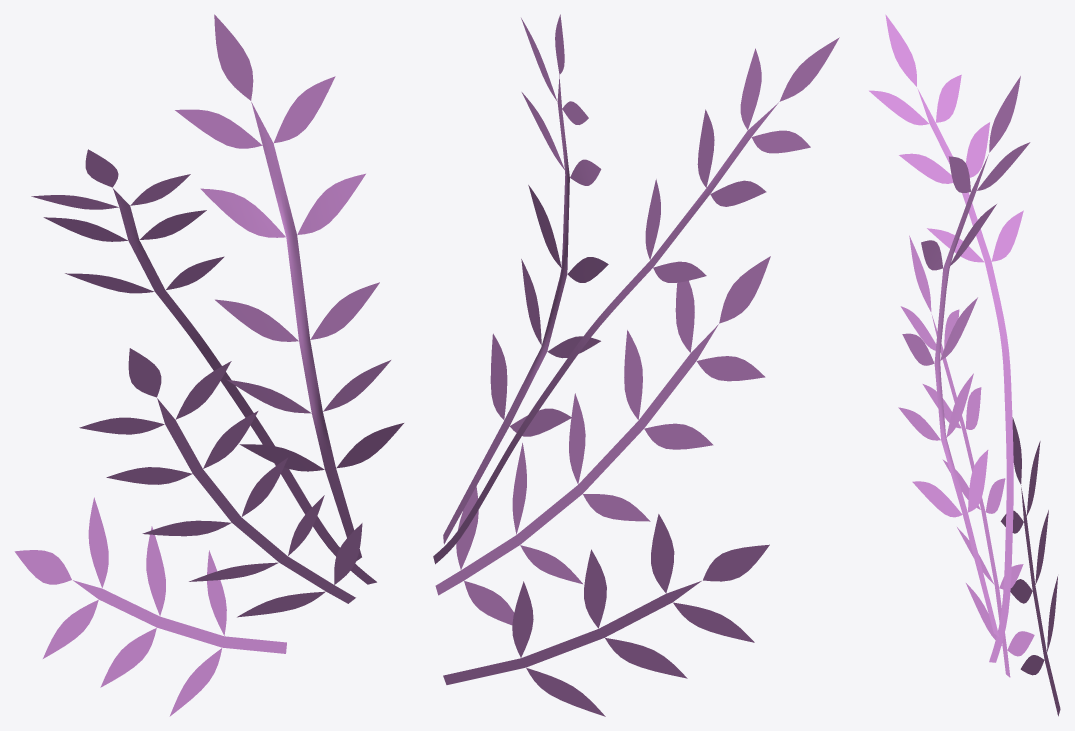
The model's file is coral_pink.fbx.
3 views of the same model, side by side, from view 1: azimuth 30°, elevation 25°; view 2: azimuth 150°, elevation 25°; view 3: azimuth 270°, elevation 25° (orthographic). The views are drawn at different scales.
Visible parts, largest first — view 1: pink_coral, pink_coral3, pink_coral2, pink_coral4; view 2: pink_coral3, pink_coral2, pink_coral4, pink_coral; view 3: pink_coral, pink_coral4, pink_coral3, pink_coral2.
Part boxes in pixels (bbox=[...]): pink_coral: bbox=[175, 14, 403, 560]; pink_coral3: bbox=[79, 348, 362, 617]; pink_coral2: bbox=[14, 497, 286, 716]; pink_coral4: bbox=[31, 149, 376, 584]; pink_coral3: bbox=[435, 256, 770, 625]; pink_coral2: bbox=[443, 514, 769, 716]; pink_coral4: bbox=[433, 37, 839, 564]; pink_coral: bbox=[443, 14, 608, 544]; pink_coral: bbox=[898, 76, 1030, 636]; pink_coral4: bbox=[869, 14, 1023, 662]; pink_coral3: bbox=[900, 235, 1034, 677]; pink_coral2: bbox=[1000, 417, 1060, 716].
Bounding box in the file's own units: 524 × 957 × 271.
